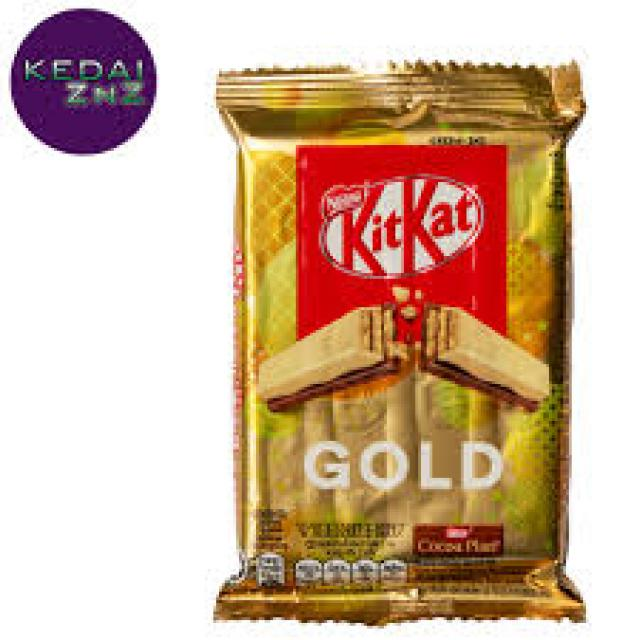kitkat: (218, 67, 582, 621)
